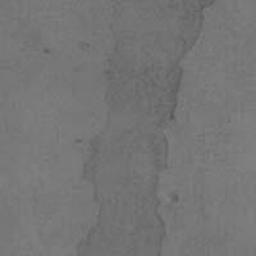Water spot: (77, 0, 218, 256), (79, 41, 91, 54), (169, 192, 179, 204), (44, 47, 52, 54)
